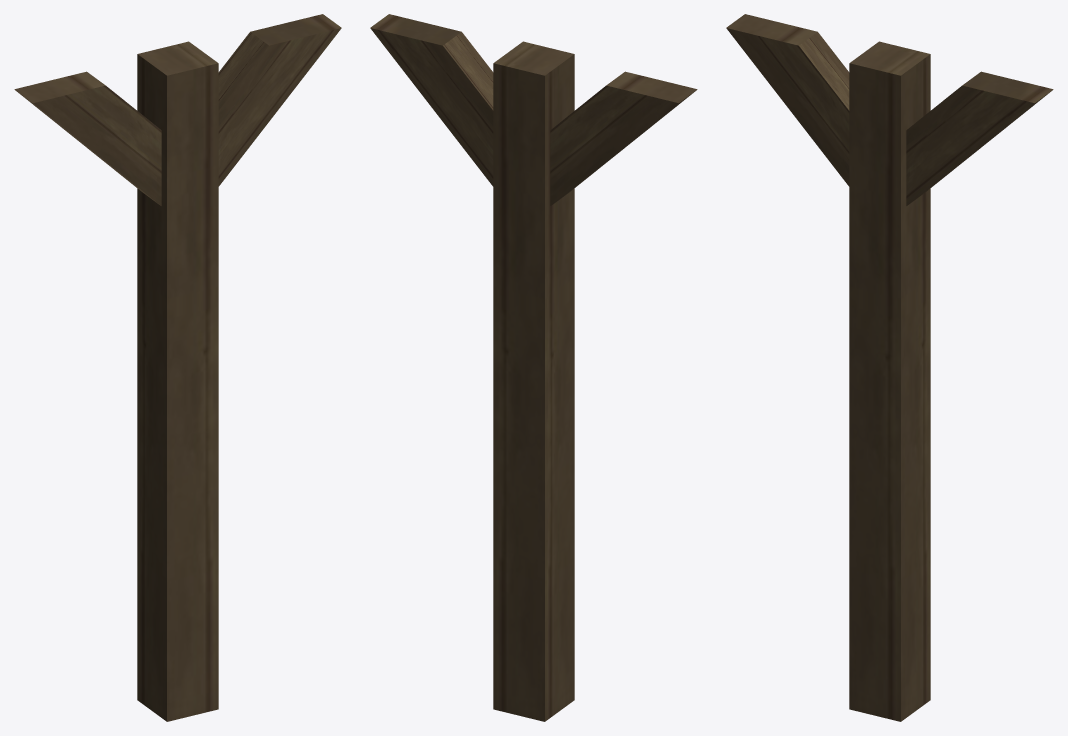
Rendered from column02.glb.
3 views of the same model, side by side, from view 1: azimuth 30°, elevation 25°; view 2: azimuth 150°, elevation 25°; view 3: azimuth 330°, elevation 25° (orthographic).
Parts seen in each view (by area): view 1: column02; view 2: column02; view 3: column02.
Boxes of the visible parts, box(x1,y1,x2,y2) form: column02: box(14, 14, 341, 721); column02: box(370, 14, 697, 721); column02: box(726, 14, 1053, 721).
Bounding box in the file's own units: 1.5 × 3 × 0.25.
1 material, 1 textured.
